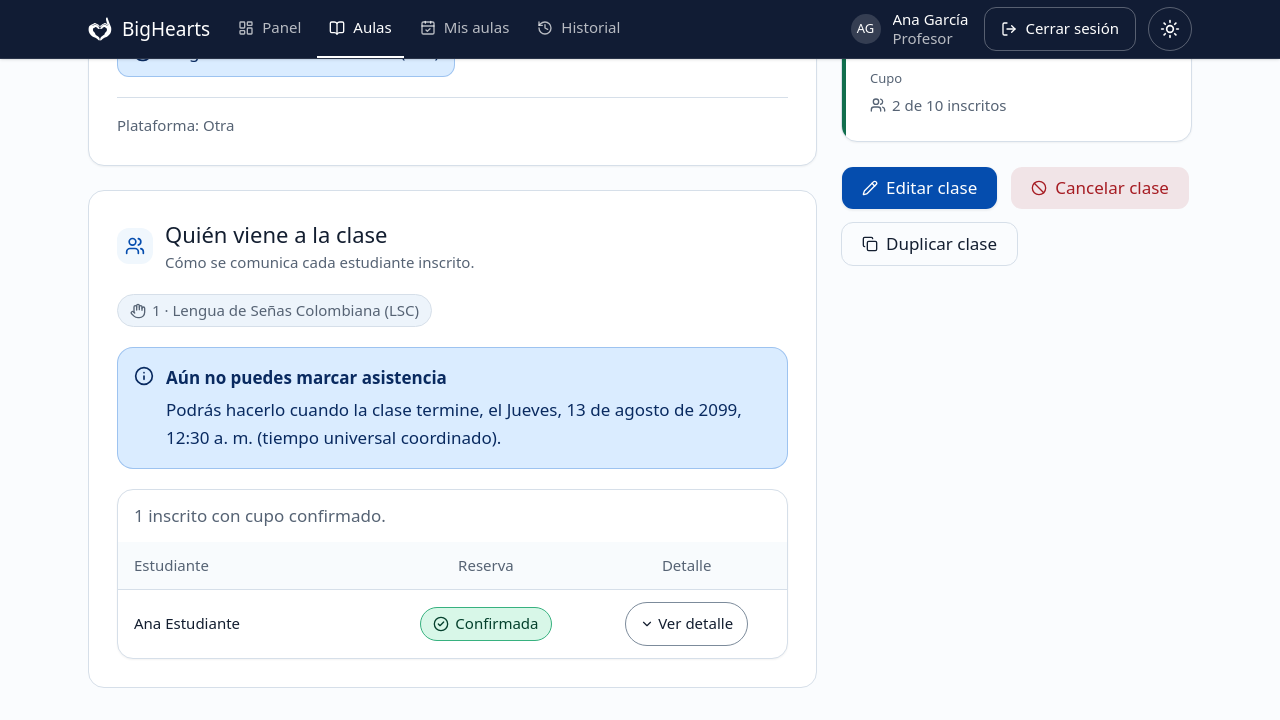
Scenario: AulaDetallePage — quién viene a la clase (HU-305) › el dueño ve la lista completa con el modo que prefiere y la pérdida auditiva de cada uno (AC1, AC2)
(page scrolled)
Expected: the column heading "Ana Estudiante" is shown, [118,589,386,658]
Expected: the text "Confirmada" is shown, [420,607,552,641]
Click the button with aria-label "Ver el detalle de Ana Estudiante": (687, 624) [625,602,748,646]
(page scrolled)
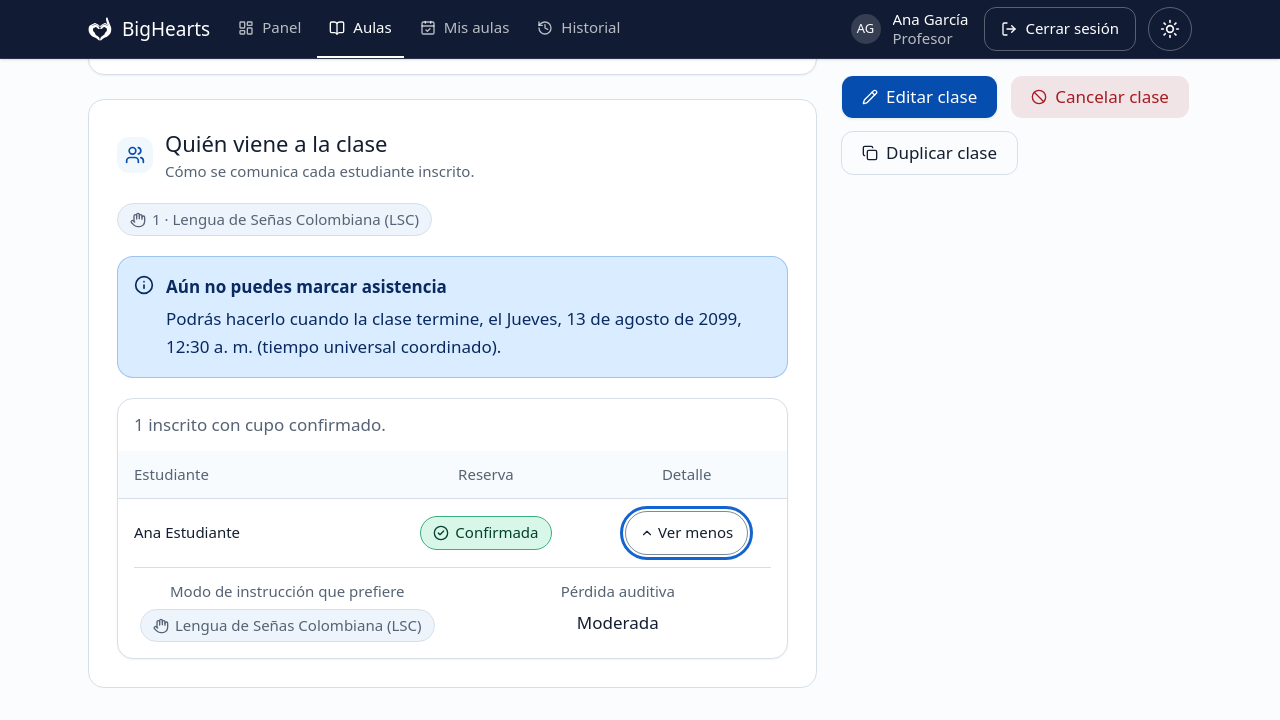
Expected: the element showing "Lengua de Señas Colombiana (LSC)" is shown, [134,609,440,642]
Expected: the text "Moderada" is shown, [577,611,659,634]
